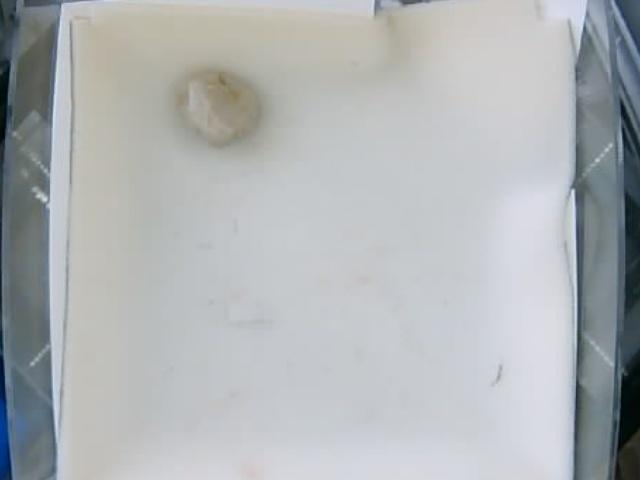Pebble: (182, 68, 260, 151)
